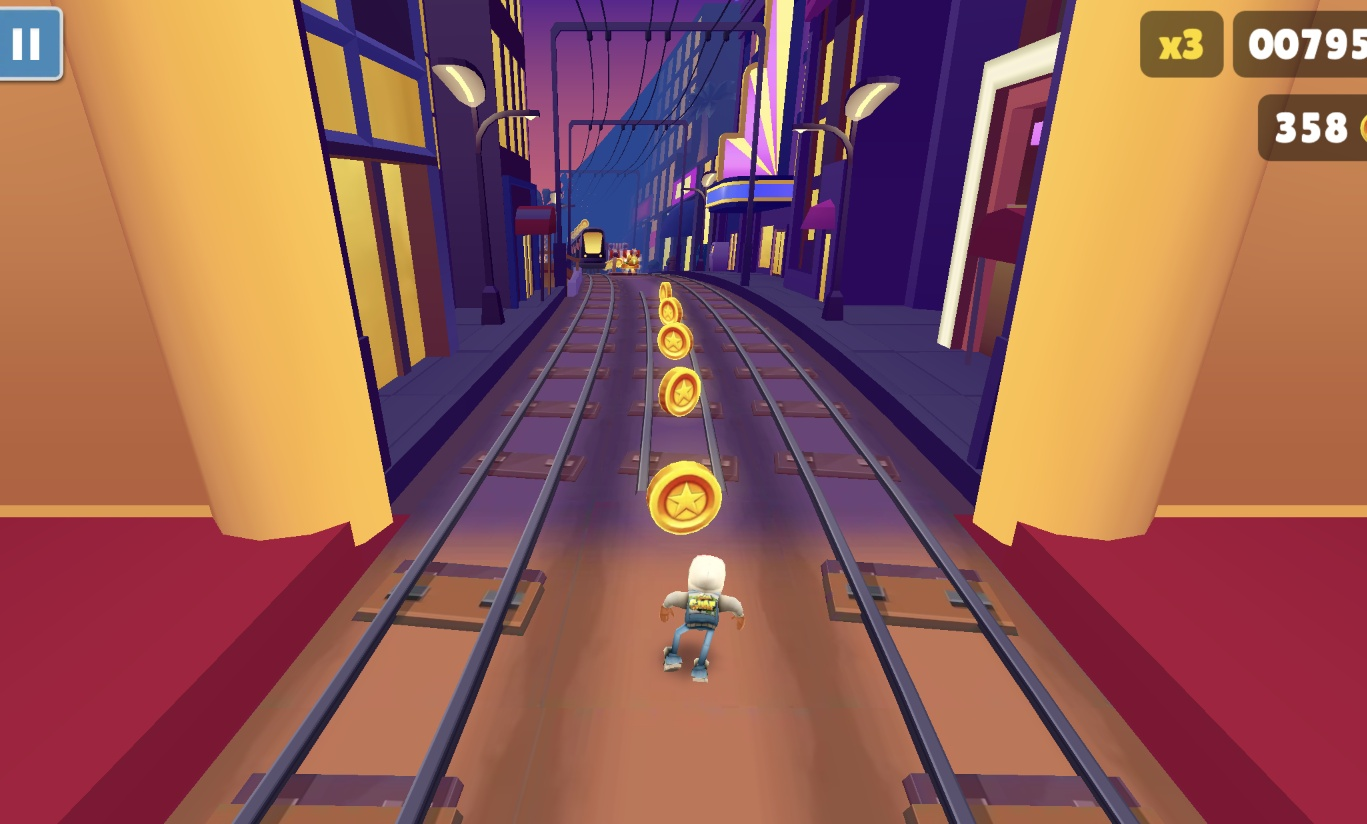ground_barrier: (607, 249, 642, 276)
overhead_barrier: (606, 242, 626, 266)
train: (574, 228, 608, 272)
